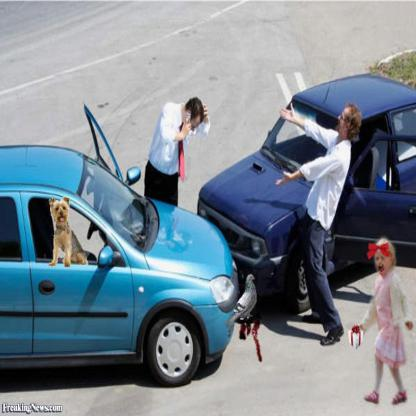face: (376, 250, 392, 276), (336, 110, 350, 129), (190, 117, 201, 133)
